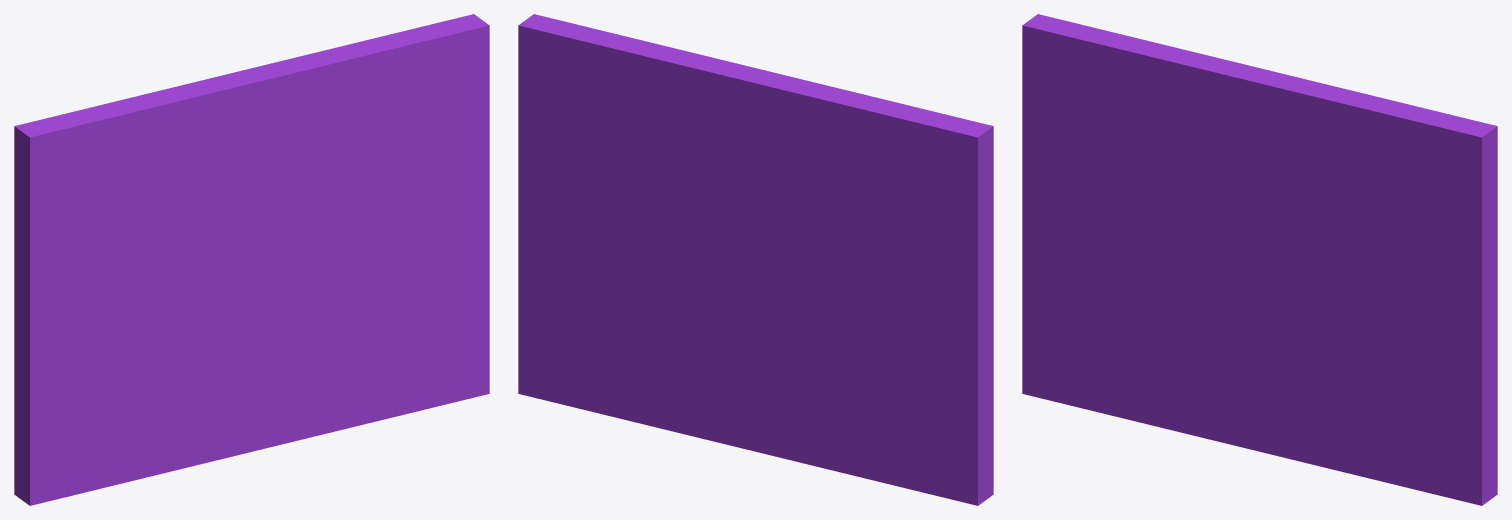
Rendered from Barrier_51_chunks.fbx.
3 views of the same model, side by side, from view 1: azimuth 30°, elevation 25°; view 2: azimuth 150°, elevation 25°; view 3: azimuth 330°, elevation 25° (orthographic).
Visible parts, largest first — view 1: Barrier_51_2, Barrier_51_1, Barrier_51_3, Barrier_51_0; view 2: Barrier_51_2, Barrier_51_3, Barrier_51_1; view 3: Barrier_51_2, Barrier_51_1, Barrier_51_3, Barrier_51_0.
Boxes of the visible parts, <box> form: Barrier_51_2: <box>272,14,489,424</box>; Barrier_51_1: <box>14,271,361,505</box>; Barrier_51_3: <box>14,46,350,321</box>; Barrier_51_0: <box>222,58,354,279</box>; Barrier_51_2: <box>518,14,748,426</box>; Barrier_51_3: <box>652,48,993,329</box>; Barrier_51_1: <box>652,270,993,505</box>; Barrier_51_2: <box>1264,93,1497,505</box>; Barrier_51_1: <box>1022,209,1353,474</box>; Barrier_51_3: <box>1022,14,1363,252</box>; Barrier_51_0: <box>1215,103,1346,285</box>.
Bounding box in the file's own units: 376 × 288 × 22.1.
